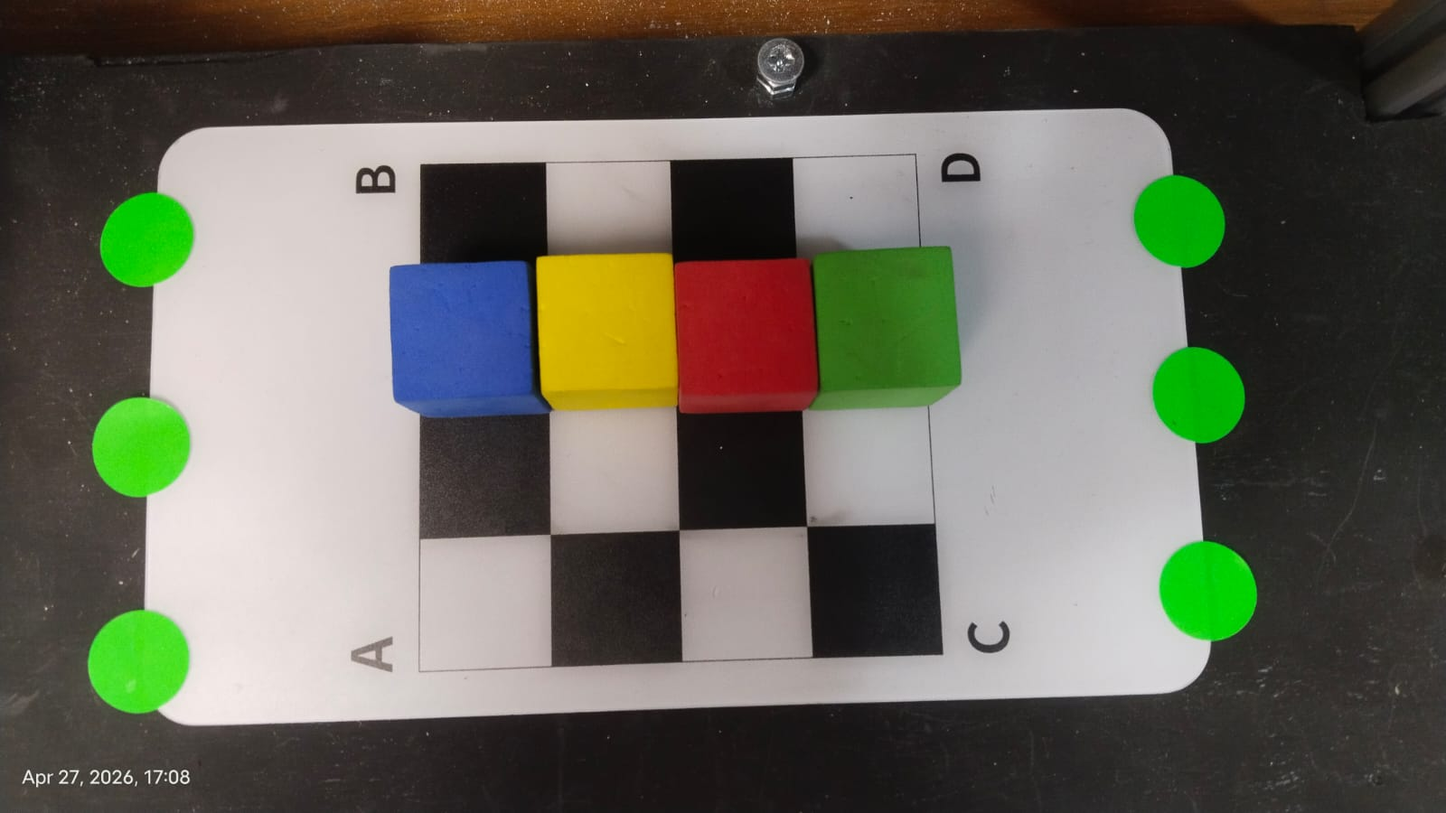blue: (381, 258, 555, 421)
green: (804, 242, 968, 418)
red: (673, 244, 824, 416)
yellow: (529, 244, 682, 409)
